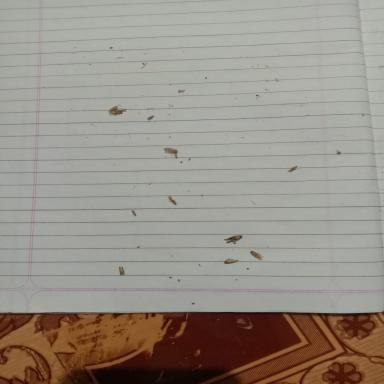pbw: (224, 234, 243, 243), (117, 264, 129, 278), (248, 250, 263, 259), (167, 194, 177, 206), (127, 207, 138, 217), (223, 258, 240, 264), (162, 148, 178, 154), (146, 113, 155, 122), (108, 110, 121, 116), (113, 107, 127, 112), (288, 165, 298, 172), (106, 105, 118, 110)
